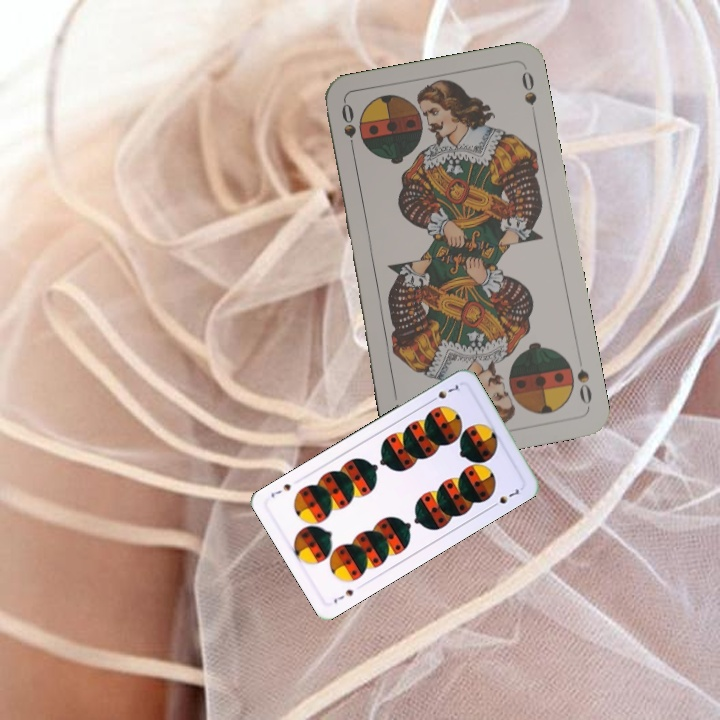S7: (426, 380, 463, 405), (329, 585, 357, 606)
SO: (337, 99, 359, 159), (572, 365, 595, 410)
